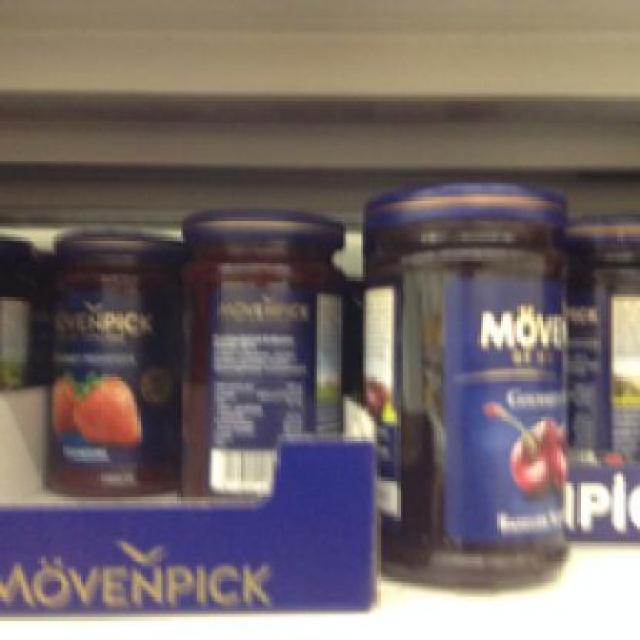Jam: (357, 179, 574, 592), (174, 206, 346, 500), (42, 232, 175, 492)
